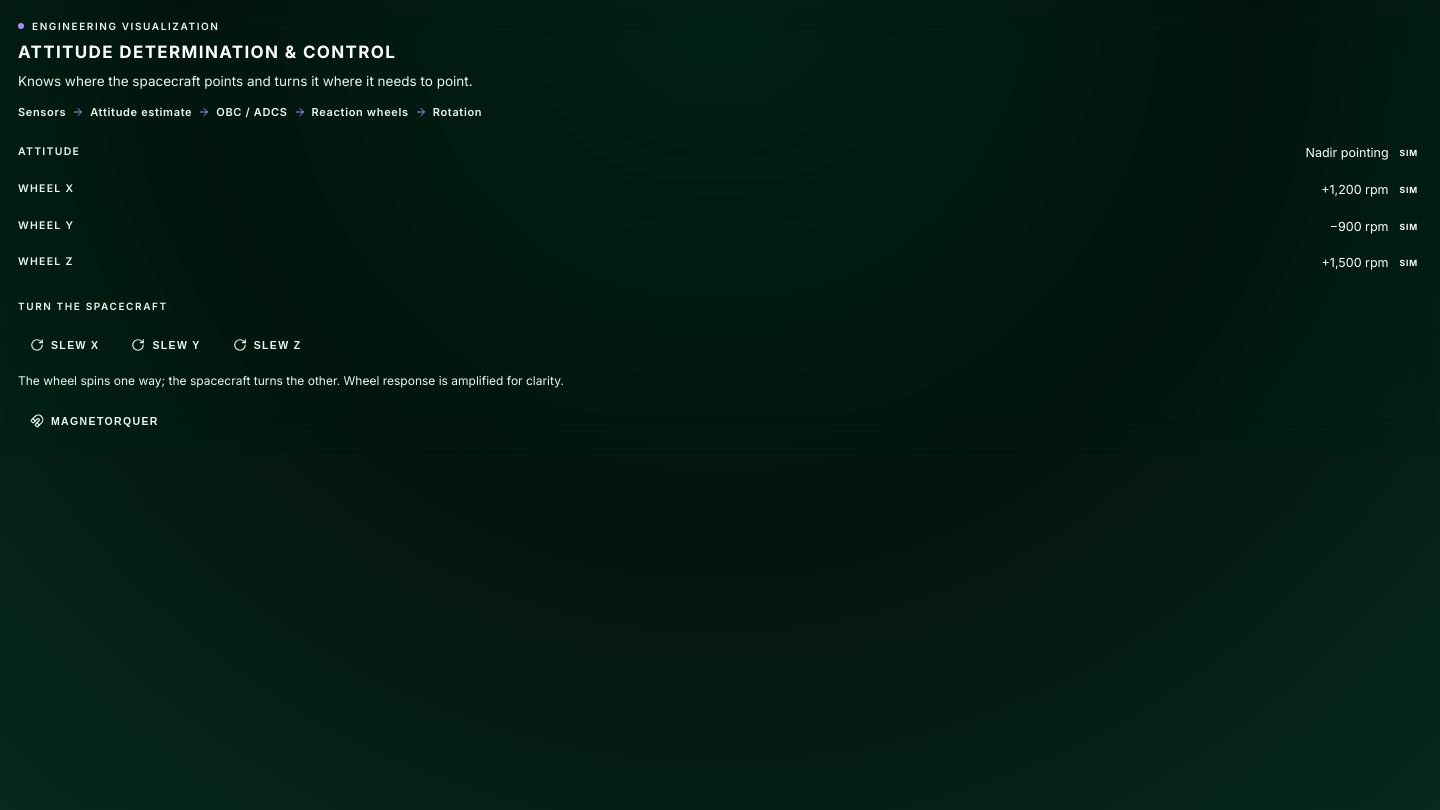
Test: systems › ADCS offers a slew about each axis and the magnetorquer demonstration
Click the button with aria-label "Slew about body Y": (166, 345) x1=120 y1=328 x2=213 y2=362
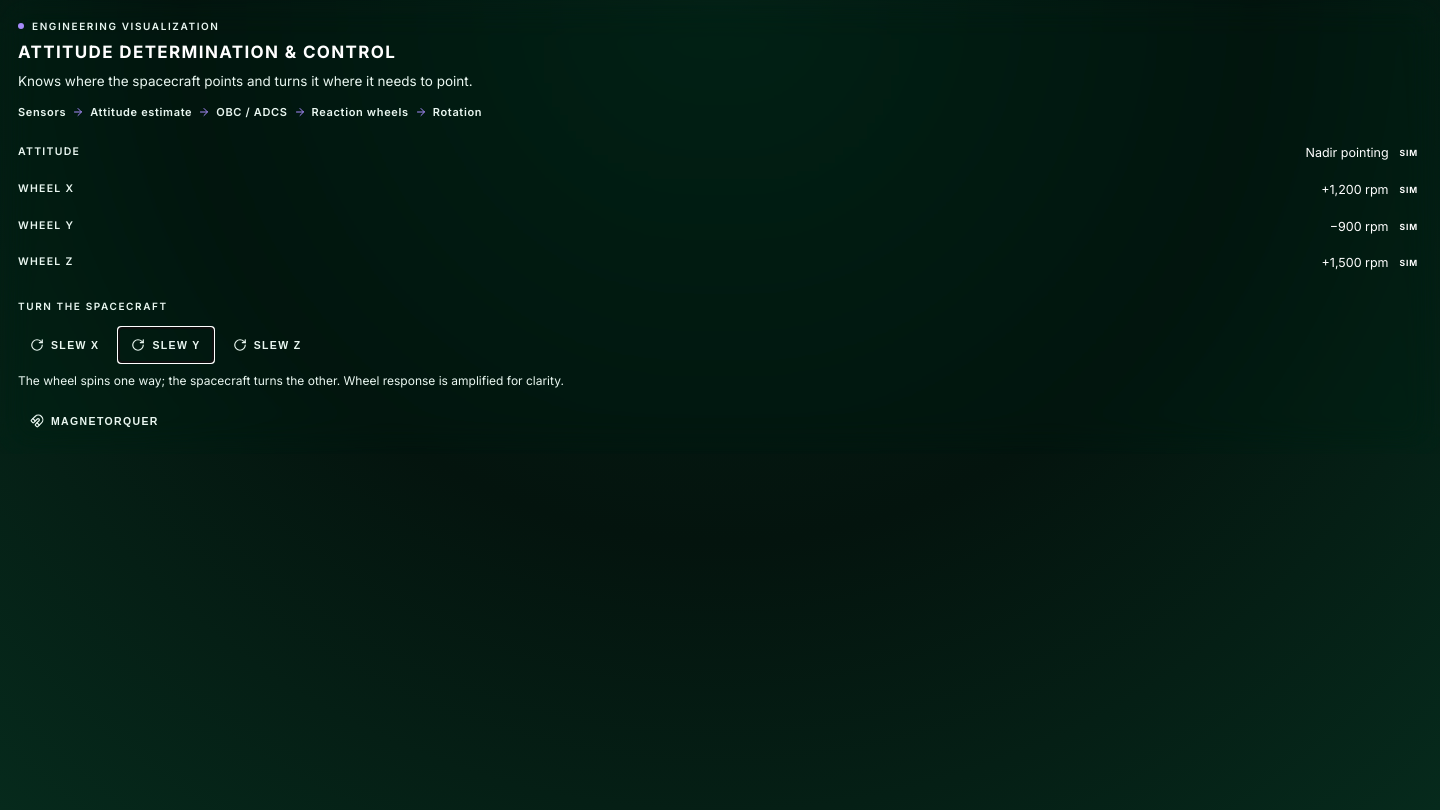
Click the button "MAGNETORQUER": (94, 421) x1=18 y1=404 x2=171 y2=438
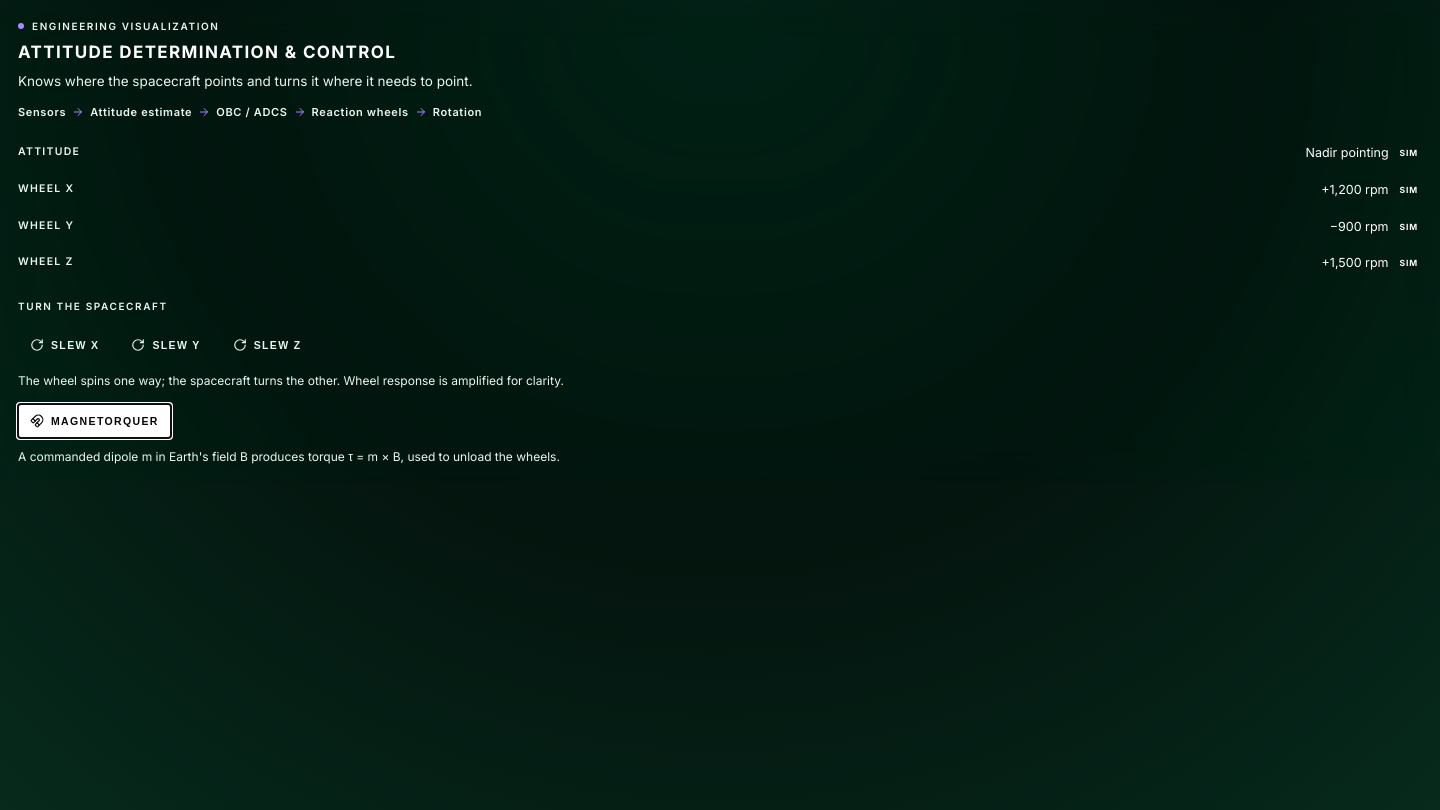
expect the text "τ = m × B" is shown: met, box x1=18 y1=449 x2=560 y2=464
